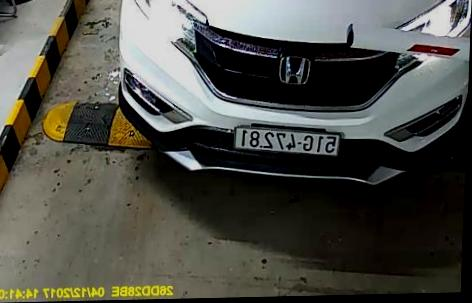License_Plate: (233, 126, 341, 158)
